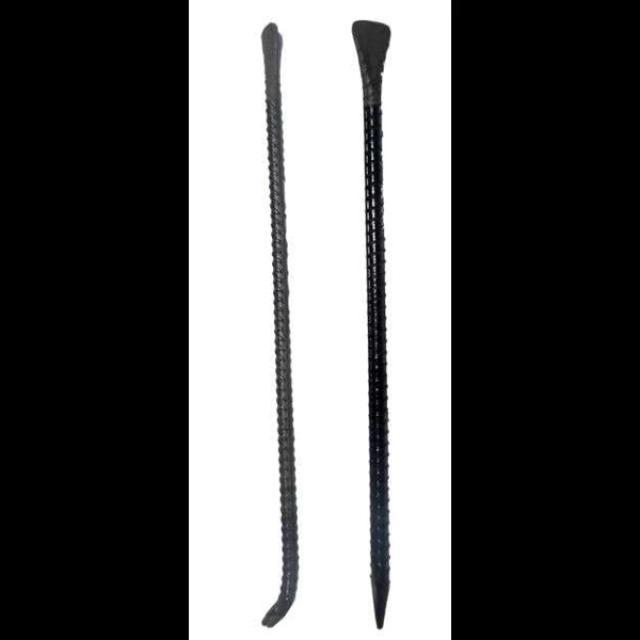Linggis: (240, 9, 326, 640), (342, 0, 420, 640)
